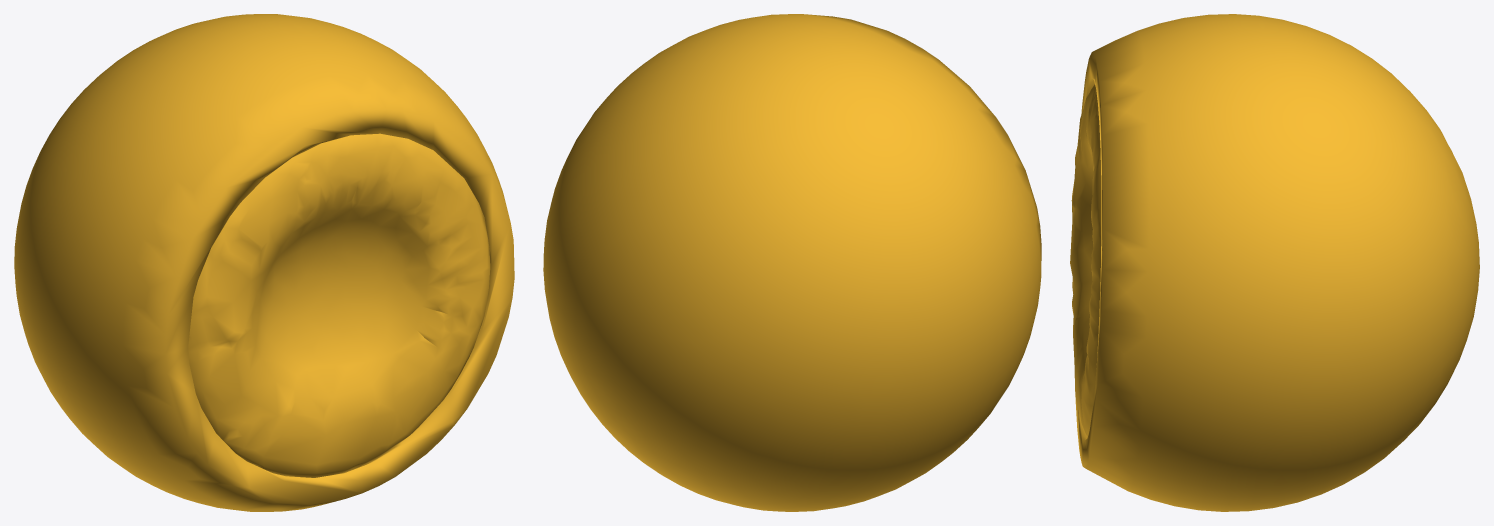
Rendered from nervoso-posterior-segment-of-eyeball-l.glb.
3 views of the same model, side by side, from view 1: azimuth 30°, elevation 25°; view 2: azimuth 150°, elevation 25°; view 3: azimuth 270°, elevation 25° (orthographic).
Parts seen in each view (by area): view 1: Posterior segment of eyeball.l, Vitreous body.l; view 2: Posterior segment of eyeball.l; view 3: Posterior segment of eyeball.l, Vitreous body.l.
Boxes of the visible parts, bbox=[...] form: Posterior segment of eyeball.l: bbox=[14, 14, 514, 511]; Vitreous body.l: bbox=[188, 133, 490, 477]; Posterior segment of eyeball.l: bbox=[543, 14, 1041, 511]; Posterior segment of eyeball.l: bbox=[1075, 14, 1479, 511]; Vitreous body.l: bbox=[1070, 84, 1101, 437].
Bounding box in the file's own units: 0.0239 × 0.0239 × 0.0196.
